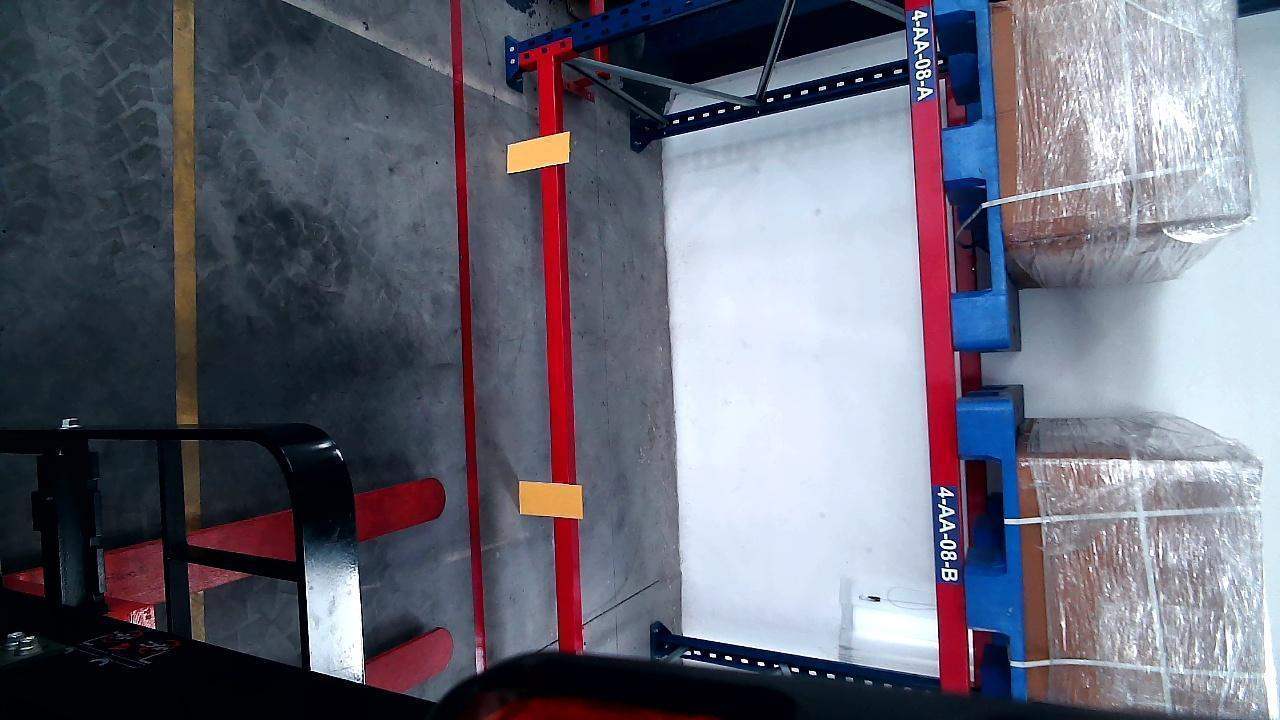red_line: (447, 0, 489, 672)
yellow_line: (171, 0, 199, 422)
